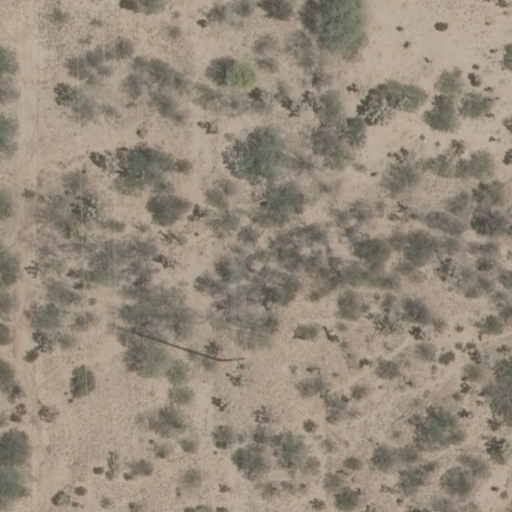DT: (214, 349, 251, 370)
